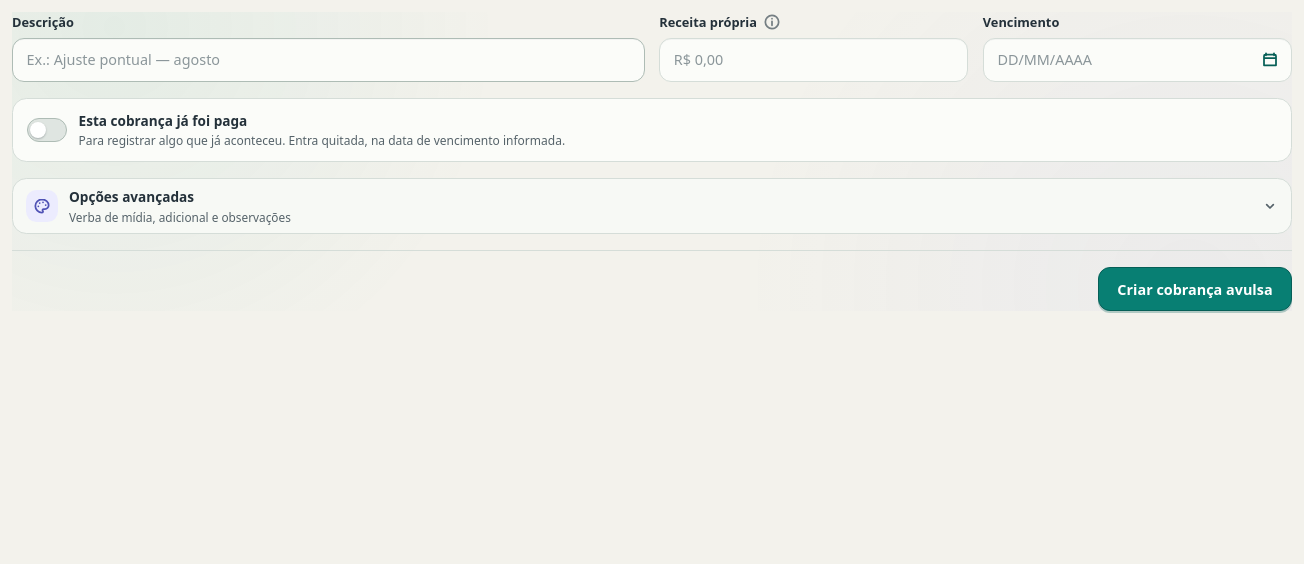
Test: ChargeForm no contexto do cliente › guarda verba e adicional nas opções avançadas
The image size is (1304, 564).
What coordinates should you click on to do the following:
click the text "Opções avançadas"
I would click on:
 (132, 197)
Its box is left=69, top=187, right=194, bottom=206.
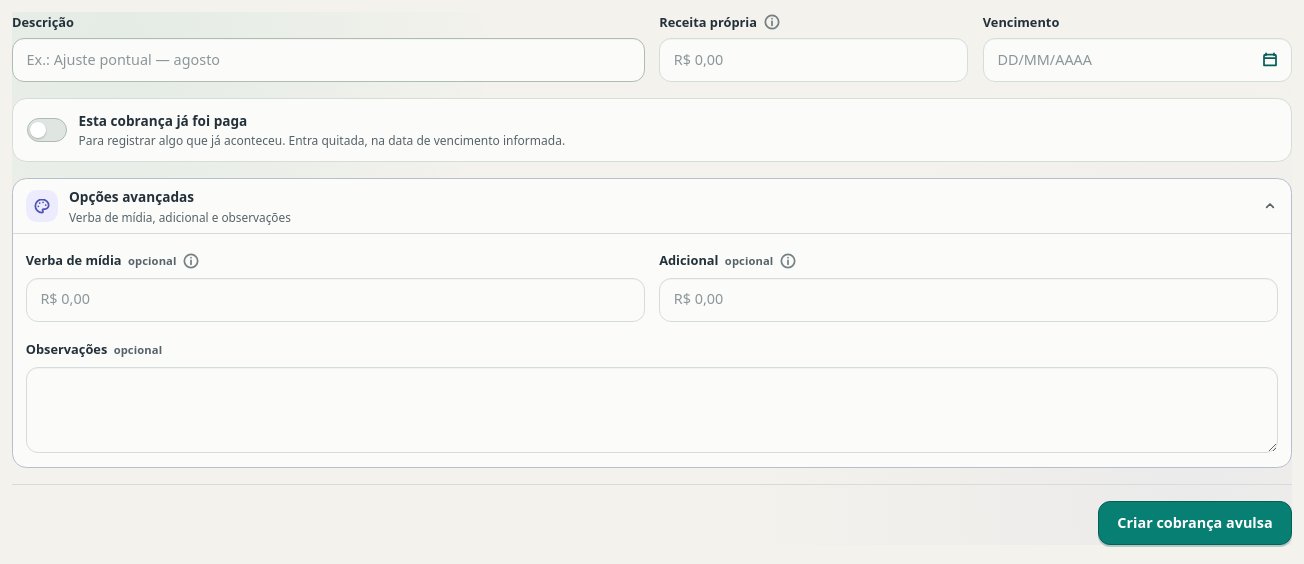
expect the field labelled "Verba de mídia opcional" is shown: met, box left=26, top=278, right=645, bottom=322
